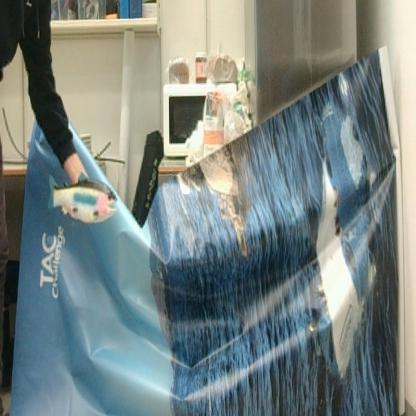rubberfish: (48, 167, 119, 226)
